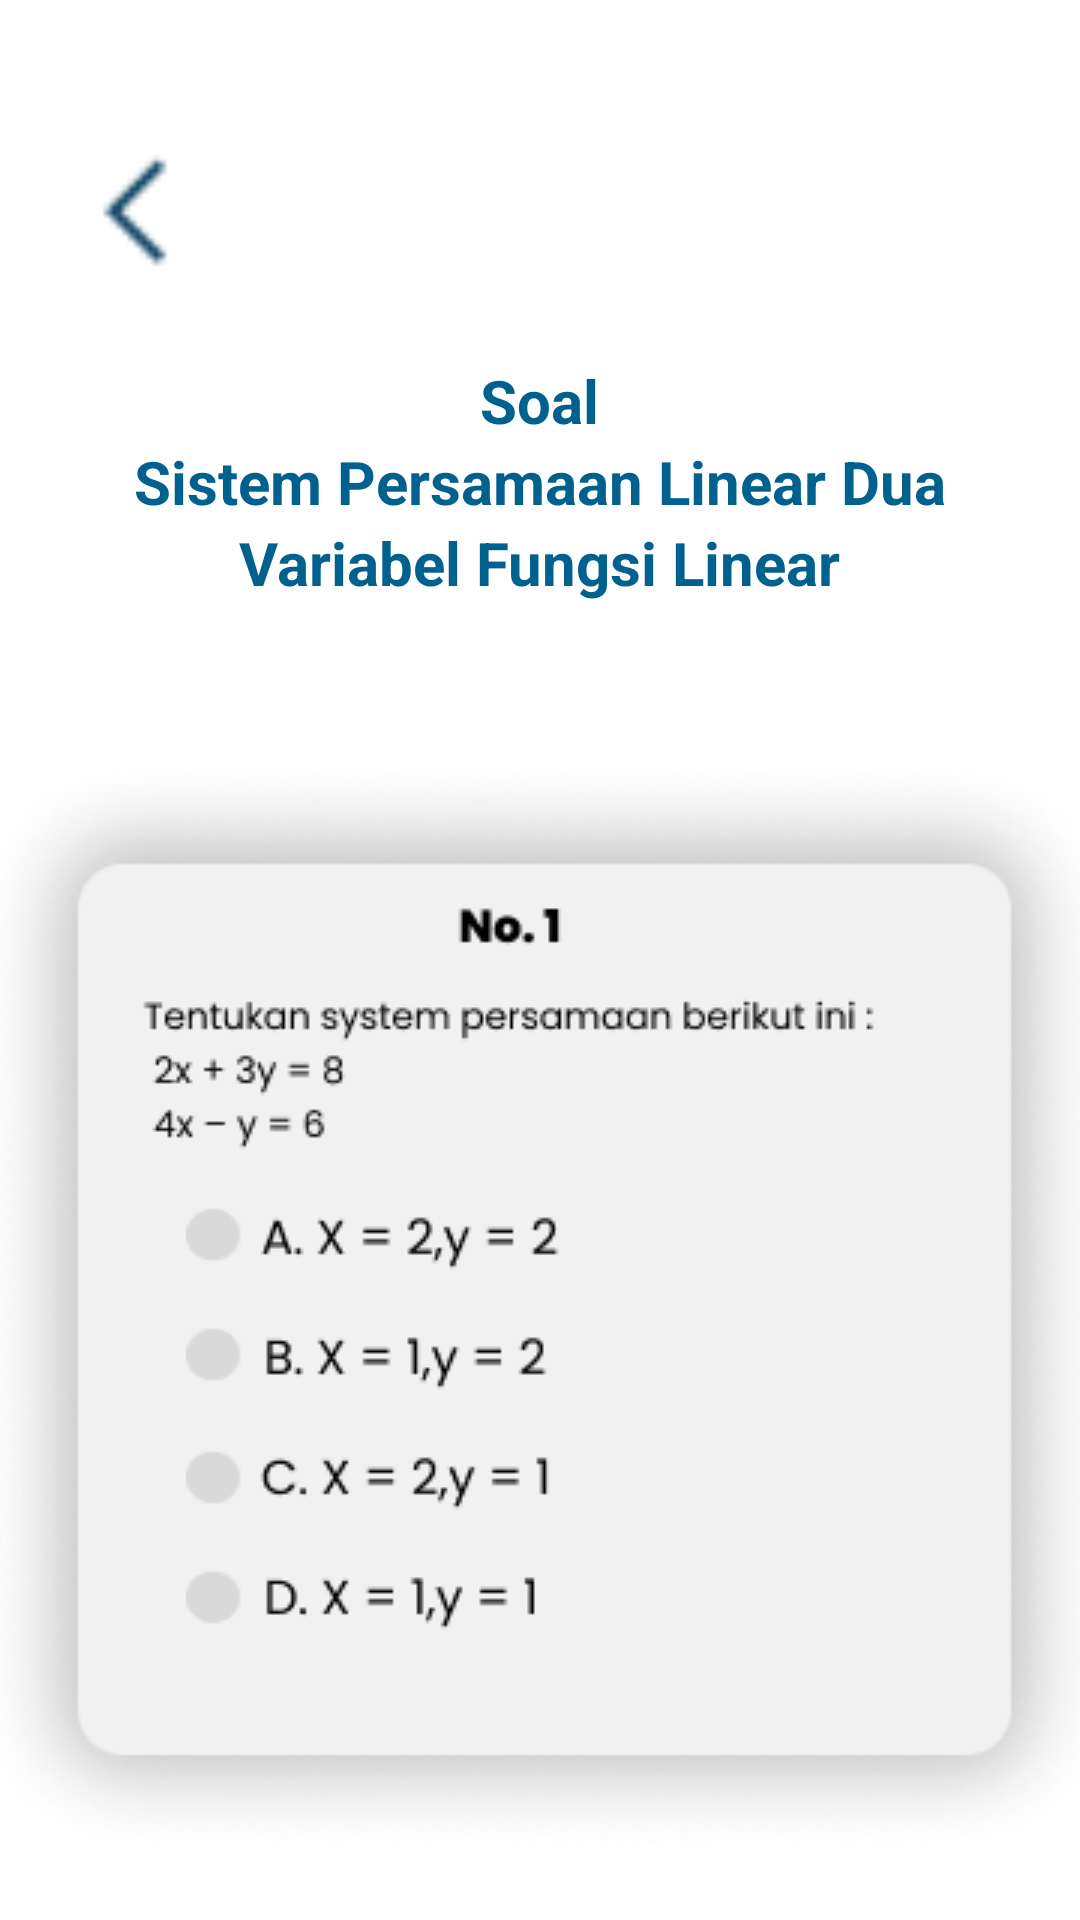

Locate icon controls on the screen. Image size 1080 x 1920, boxes as box=[x1, y1, x2, y2].
kembali: box=[103, 158, 167, 266]
